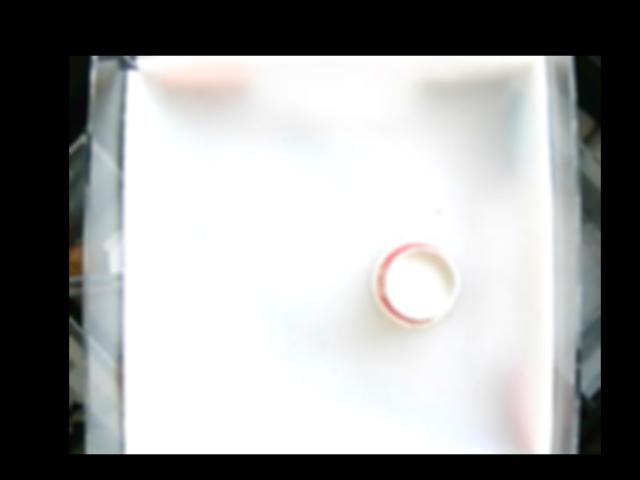Cup: (373, 235, 461, 327)
